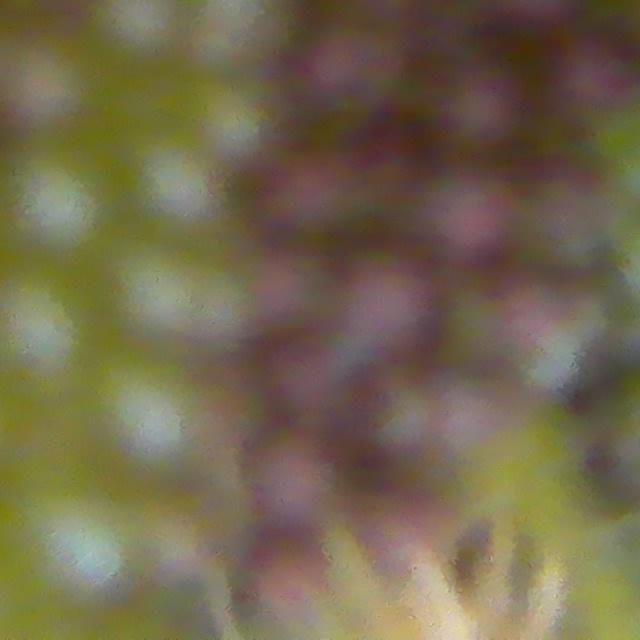SeaGrape: (16, 480, 145, 605), (89, 345, 209, 472), (8, 141, 115, 255), (0, 259, 99, 381), (111, 239, 209, 339), (125, 133, 221, 230), (6, 38, 101, 131), (339, 248, 428, 347), (551, 37, 633, 123), (200, 82, 281, 169), (433, 184, 516, 268), (95, 0, 187, 63), (433, 79, 512, 149)
